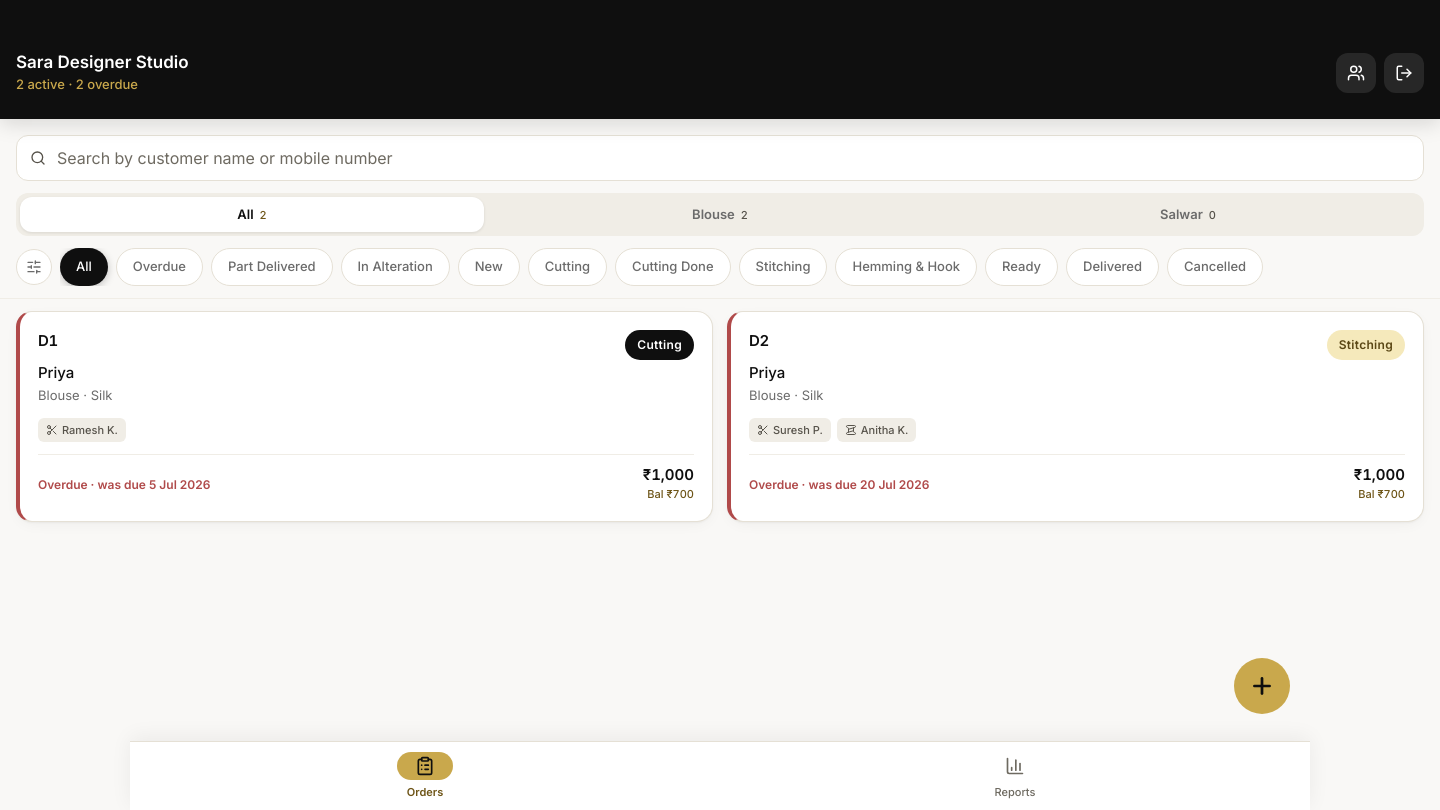
OrdersBody › filters by an exact due date
Click the button named "More filters" at (34, 267), box [16,249,52,285]
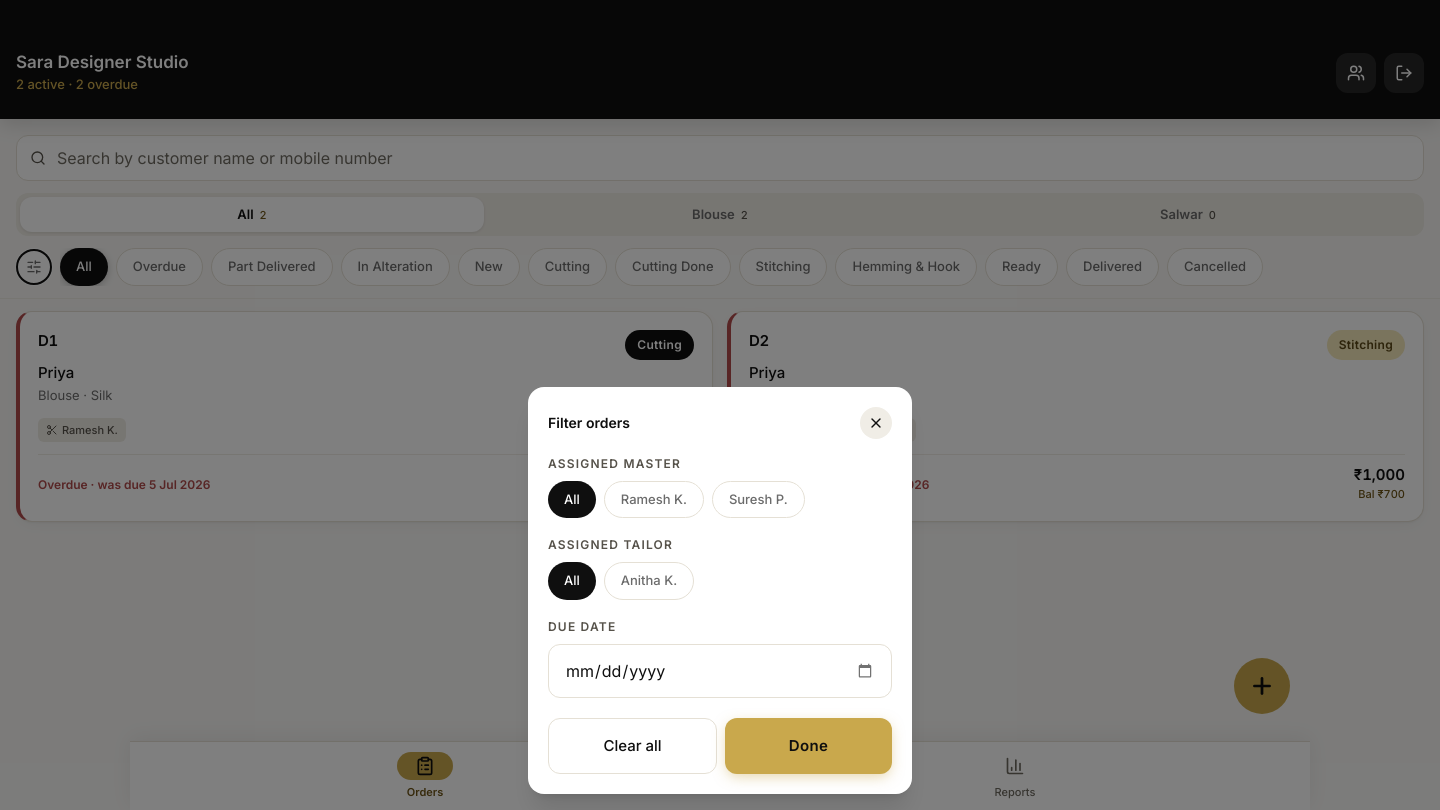
Type "2026-07-20" into the date field named "Due date" at (720, 670), box [548,644,892,698]
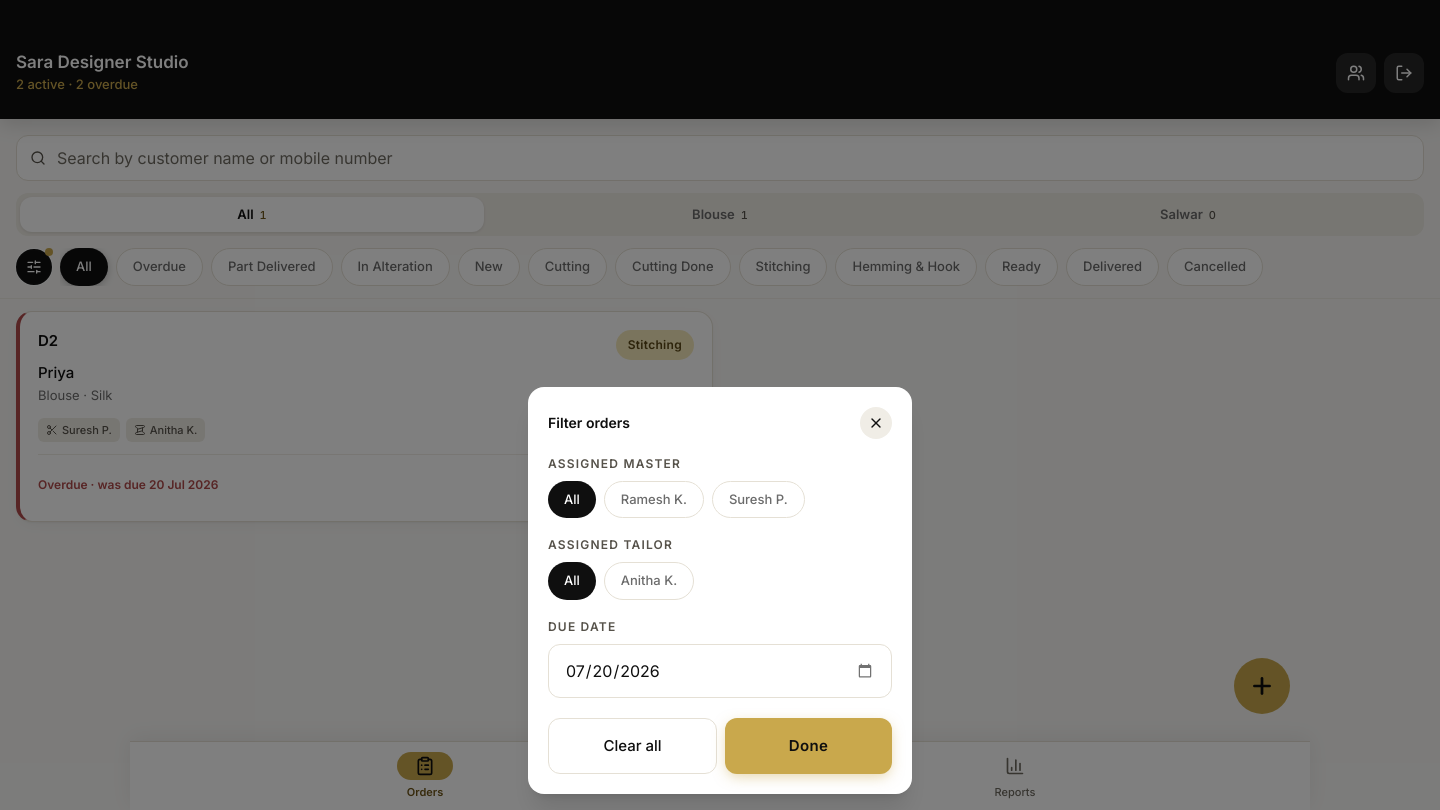
Expected: the text "D2" is shown, [38,330,58,352]
Expected: the button "D1" is gone
